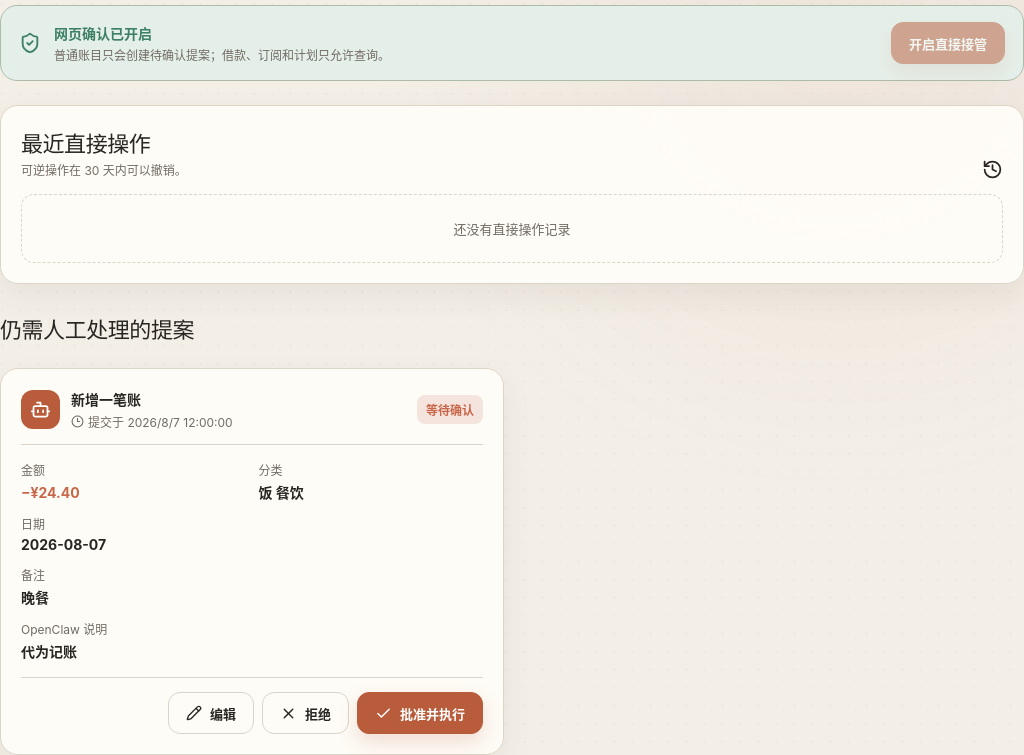
Test: 待确认操作修订 › 旧版本保存冲突时关闭编辑框并刷新待确认内容
(page scrolled)
What coordinates should you click on to do the following:
click the button "编辑"
I would click on:
 (211, 713)
Its box is [168,692,254,734].
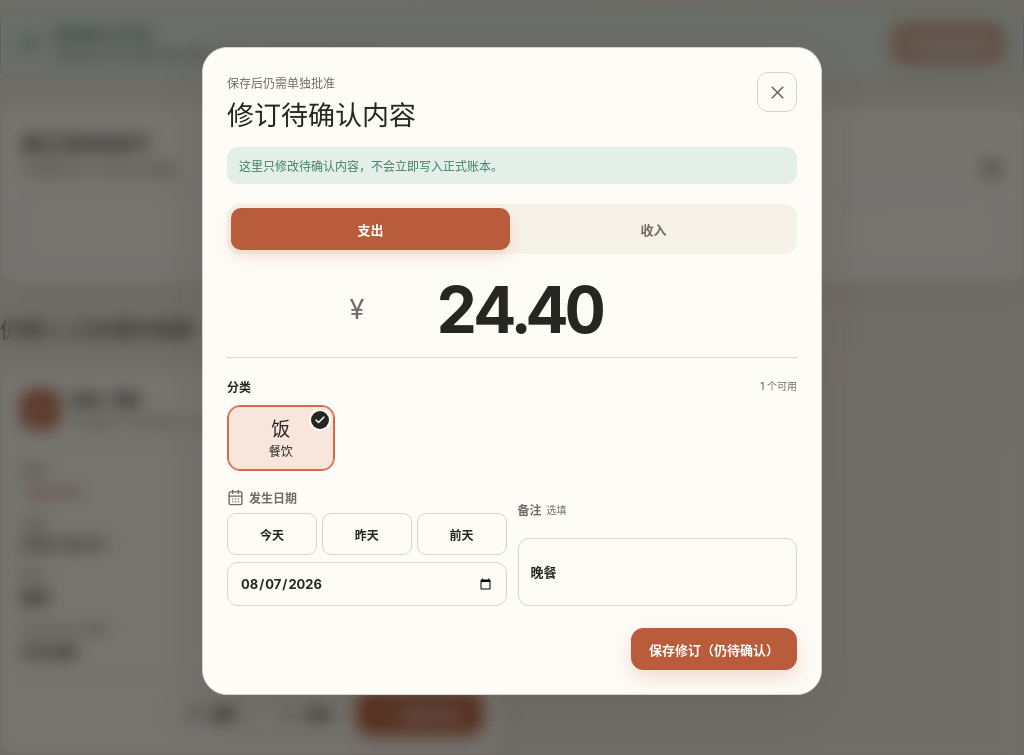
What coordinates should you click on to do the following:
click the button "保存修订（仍待确认）"
I would click on:
 (714, 649)
Its box is [631,628,797,670].
(page scrolled)
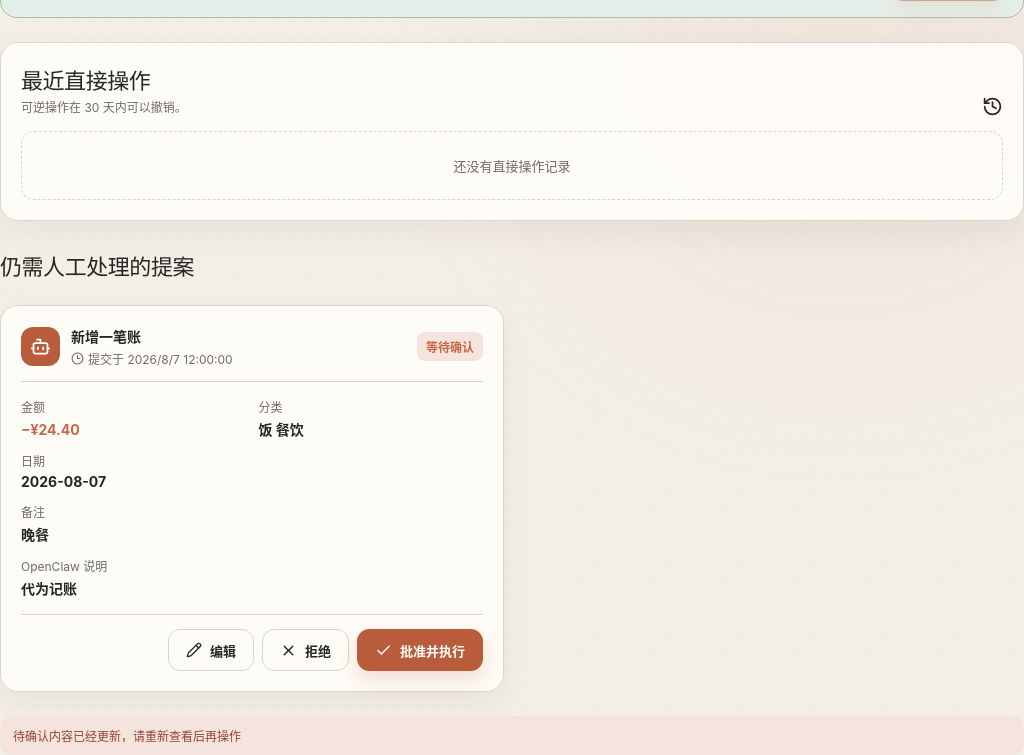
Check: the message shows "待确认内容已经更新", box [13,729,241,744]
Check: the heading "修订待确认内容" is gone
